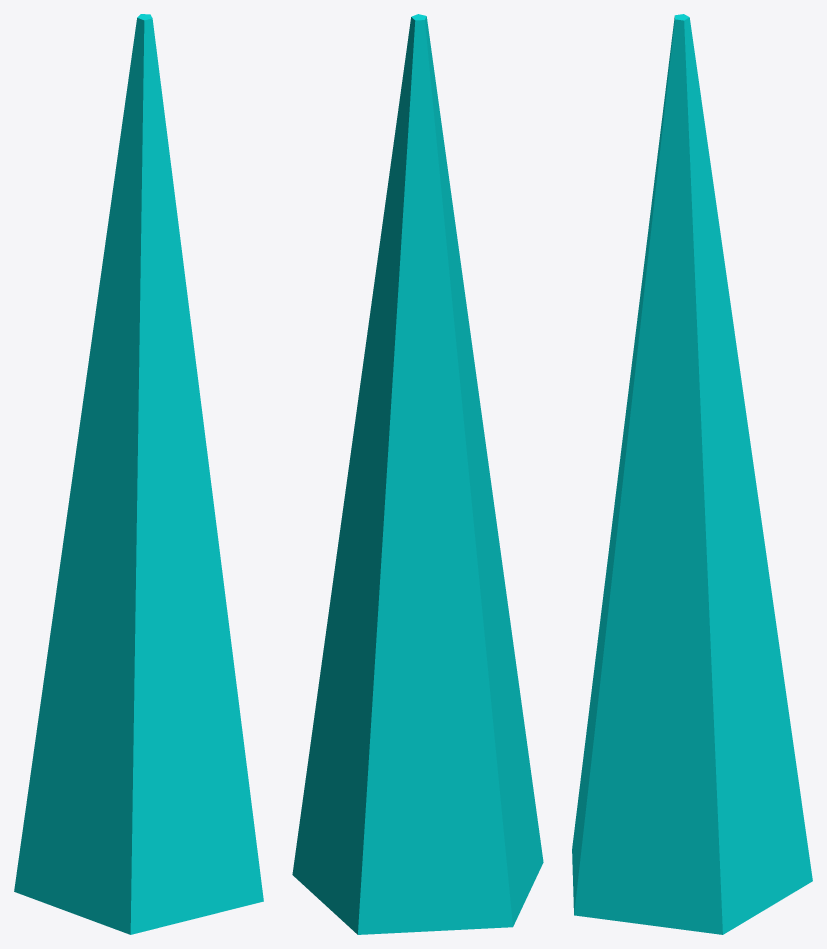
The model's file is SM_Env_Tree_02_Collision.fbx.
3 views of the same model, side by side, from view 1: azimuth 30°, elevation 25°; view 2: azimuth 150°, elevation 25°; view 3: azimuth 270°, elevation 25° (orthographic).
Parts seen in each view (by area): view 1: SM_Env_Tree_02_Collision; view 2: SM_Env_Tree_02_Collision; view 3: SM_Env_Tree_02_Collision.
Boxes of the visible parts, x1,y1,x2,y2 form: SM_Env_Tree_02_Collision: [14, 14, 263, 934]; SM_Env_Tree_02_Collision: [292, 14, 543, 934]; SM_Env_Tree_02_Collision: [572, 14, 812, 934].
Size of the model in its own units: 76.92 by 291 by 73.46.
